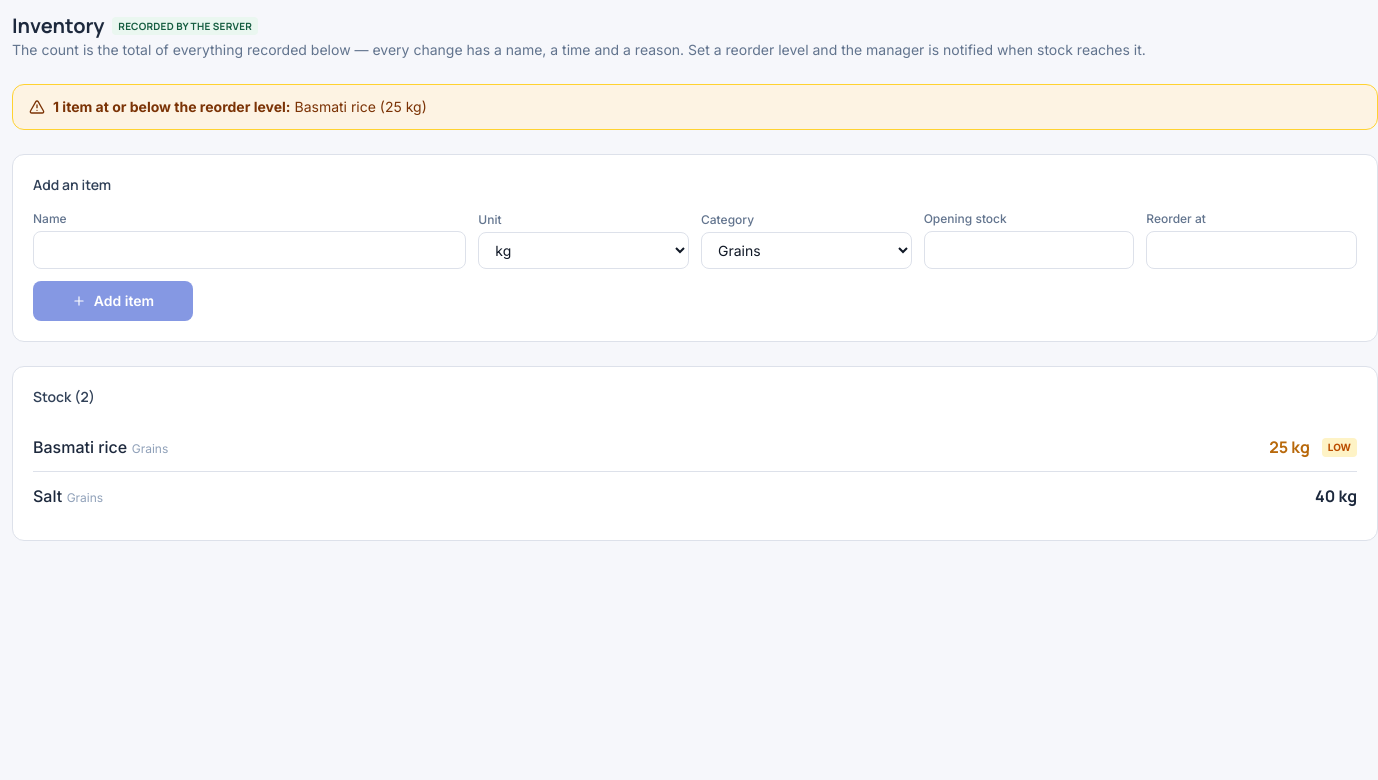
Test case: Inventory — real stock › records a movement with the amount and note, and shows the new balance
Click the button with aria-label "basmati rice details" at (80, 447), box 33,435 -> 1257,459
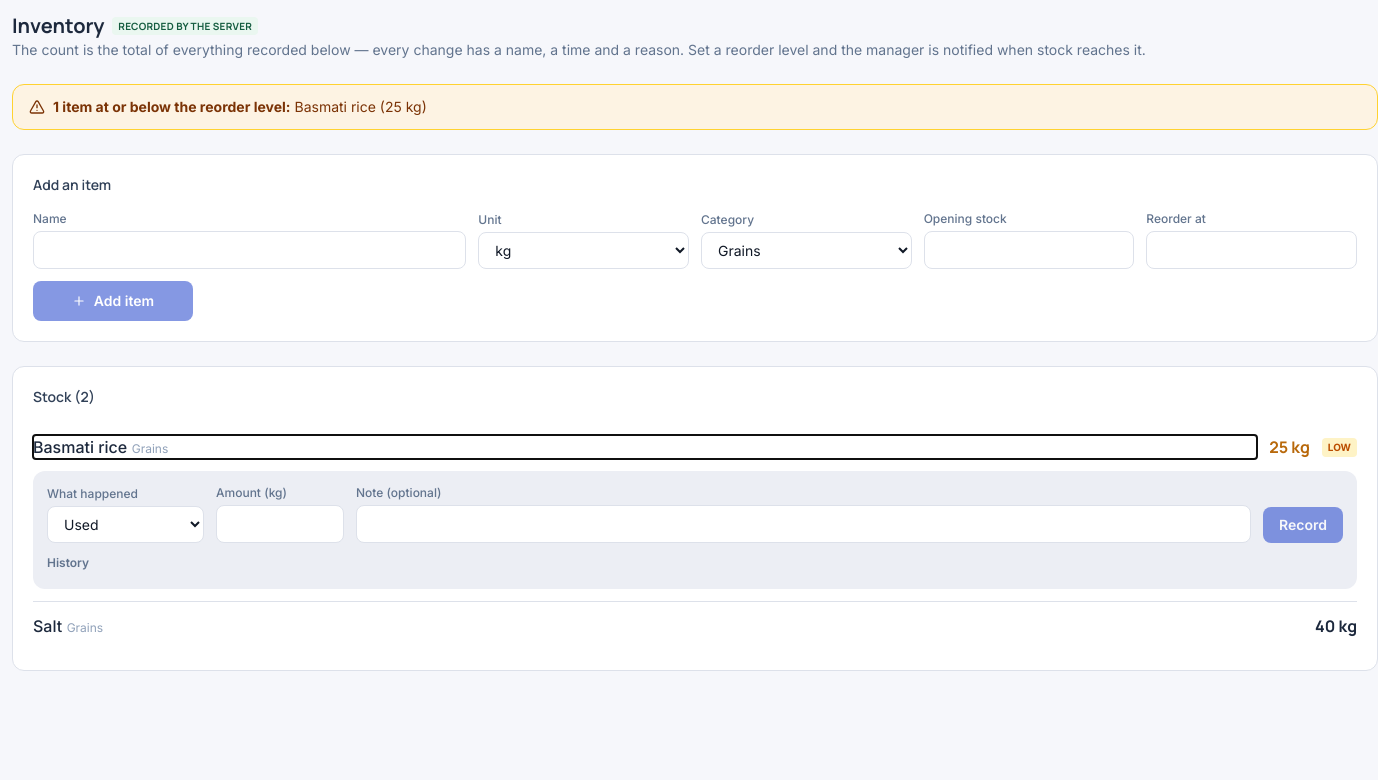
Type "4.5" into the number field labelled "Amount" at (280, 524), box 216,505 -> 344,543
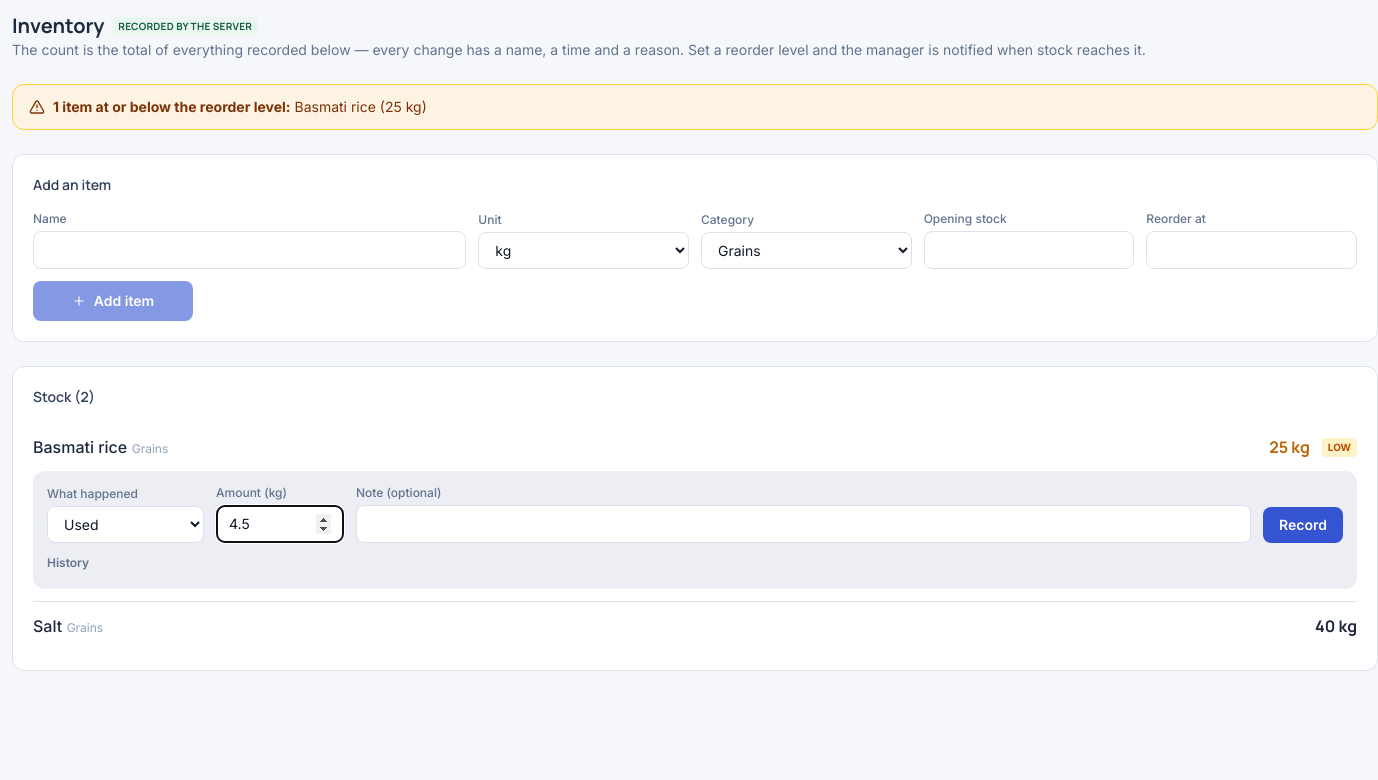
Type "lunch" into the field labelled "Note" at (804, 524), box 356,505 -> 1251,543
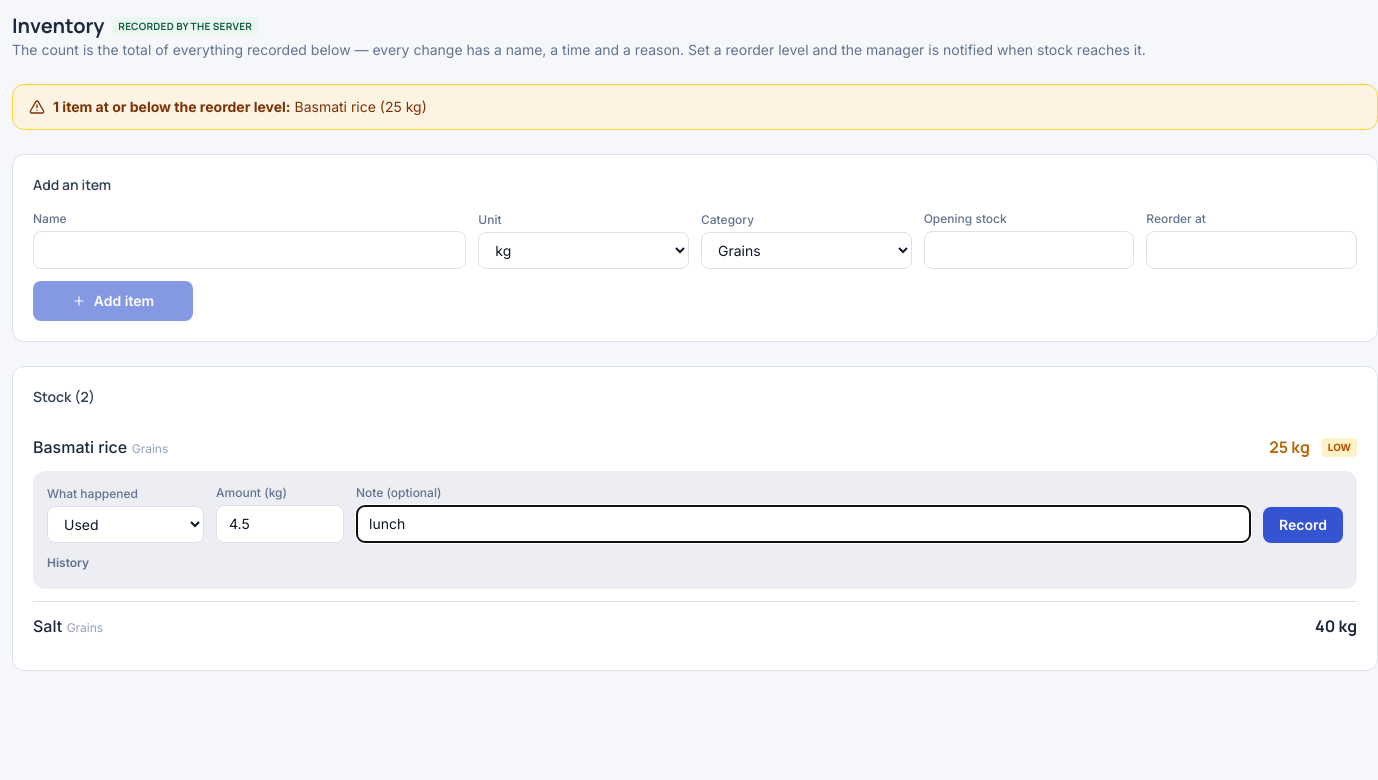
Click the button "Record" at (1303, 525), box 1263,507 -> 1343,543
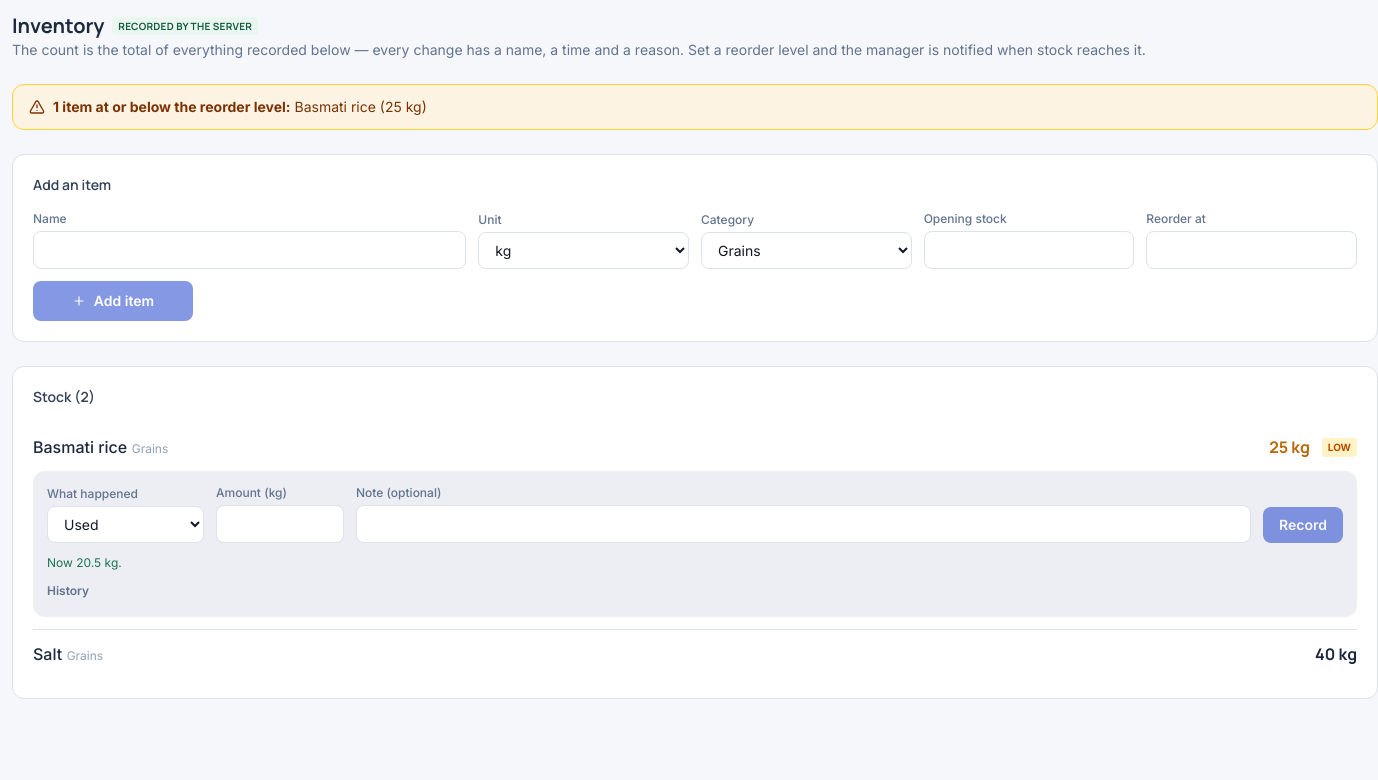
Expected: the text "Now 20.5 kg." is shown, 47,555 -> 122,570
